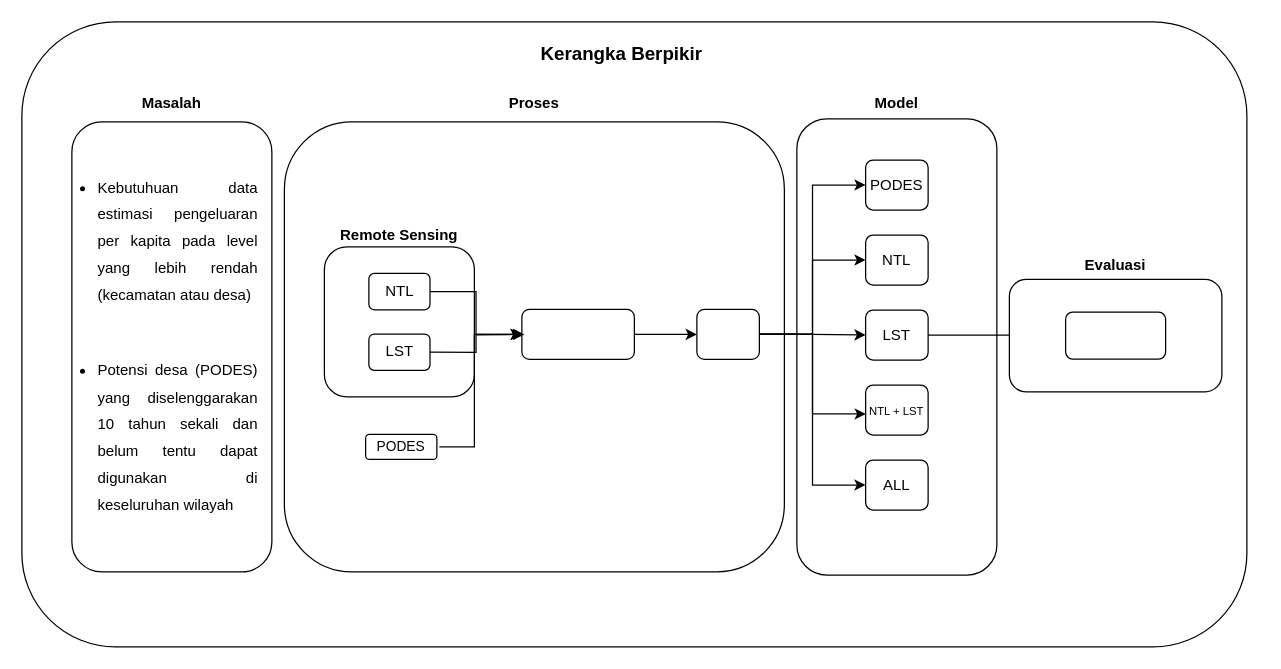
Image size: 1281x669. Some labels were removed from this diagram. The shapes that lost their labels are listed below. From the top down, each one's centre as x and y in pixels, then its label:
At point 577,333: "auxiliary variabel".
At point 727,333: "SAE".
At point 1115,335: "Model Terbaik".
